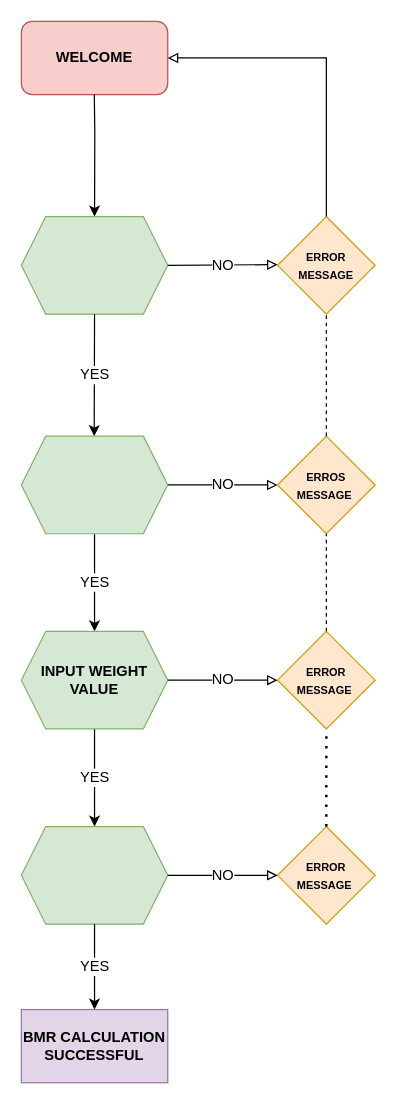
This 397x1104 diagram has some shape labels left out. Each missing label, with the centre of its shape:
"INPUT AGE VALUE" belongs at point (94, 264).
"INPUT HEIGHT VALUE" belongs at point (94, 484).
"SELECT GENDER" belongs at point (94, 874).
